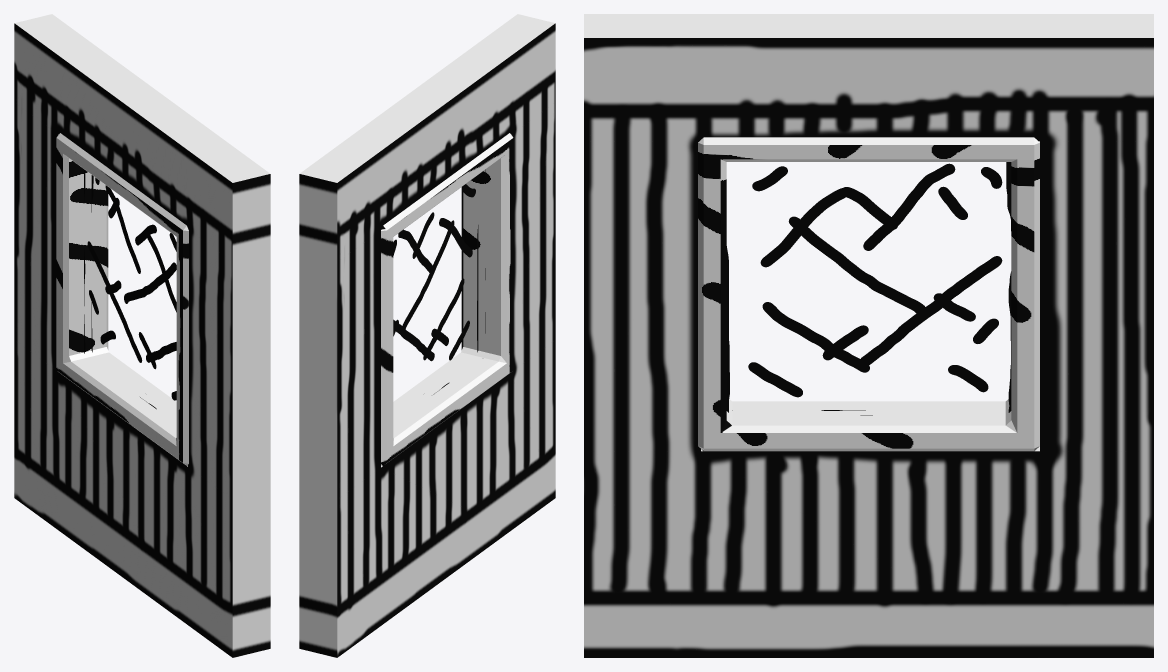
Rendered from window.fbx.
3 renders of one model, left to right at view 1: azimuth 30°, elevation 25°; view 2: azimuth 150°, elevation 25°; view 3: azimuth 270°, elevation 25°, orthographic. The views are drawn at different scales.
Parts seen in each view (by area): view 1: Wall, Window Frame, Glass; view 2: Wall, Window Frame, Glass; view 3: Wall, Window Frame, Glass.
Part boxes in pixels (x1,y1,x2,y2): Wall: (14, 14, 270, 657); Window Frame: (56, 133, 188, 465); Glass: (84, 169, 176, 409); Wall: (299, 14, 555, 657); Window Frame: (381, 133, 513, 465); Glass: (393, 169, 485, 394); Wall: (584, 14, 1153, 657); Window Frame: (698, 137, 1039, 451); Glass: (726, 162, 1011, 415).
Size of the model in its own units: 120 by 1200 by 1000.
